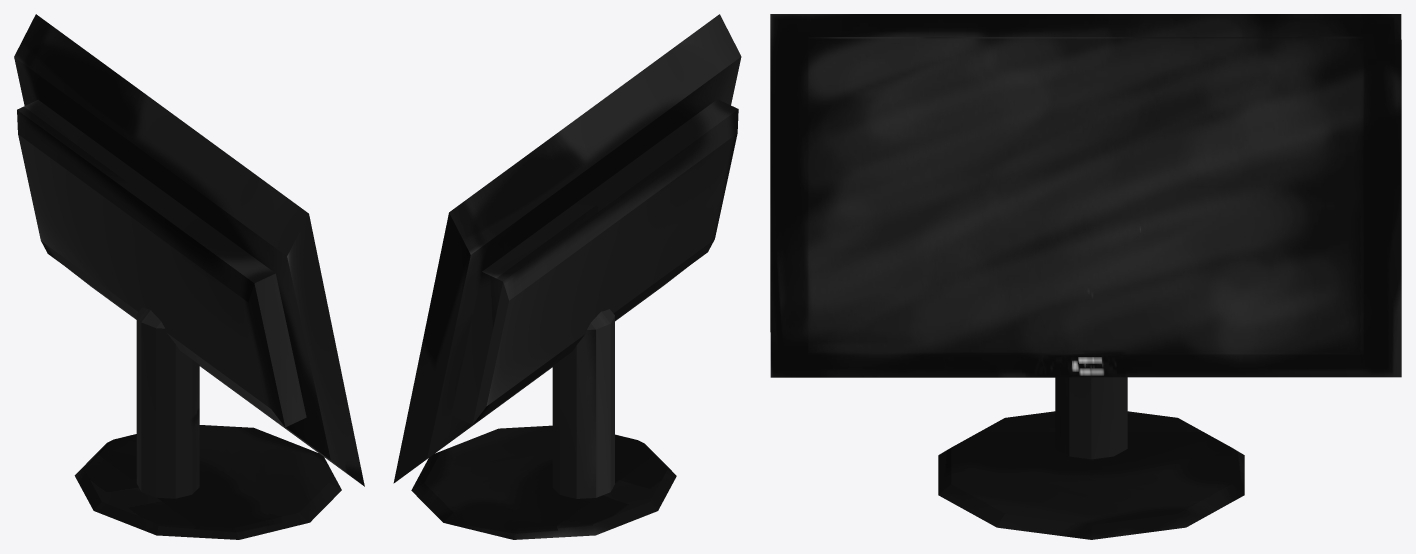
The model's file is monitor.fbx.
3 views of the same model, side by side, from view 1: azimuth 30°, elevation 25°; view 2: azimuth 150°, elevation 25°; view 3: azimuth 270°, elevation 25° (orthographic). The views are drawn at different scales.
Visible parts, largest first — view 1: Circle.002; view 2: Circle.002; view 3: Circle.002.
Boxes of the visible parts, x1,y1,x2,y2 form: Circle.002: (14, 14, 364, 539); Circle.002: (393, 14, 741, 539); Circle.002: (770, 14, 1401, 539).
Size of the model in its own units: 40.42 by 64.01 by 83.27.
